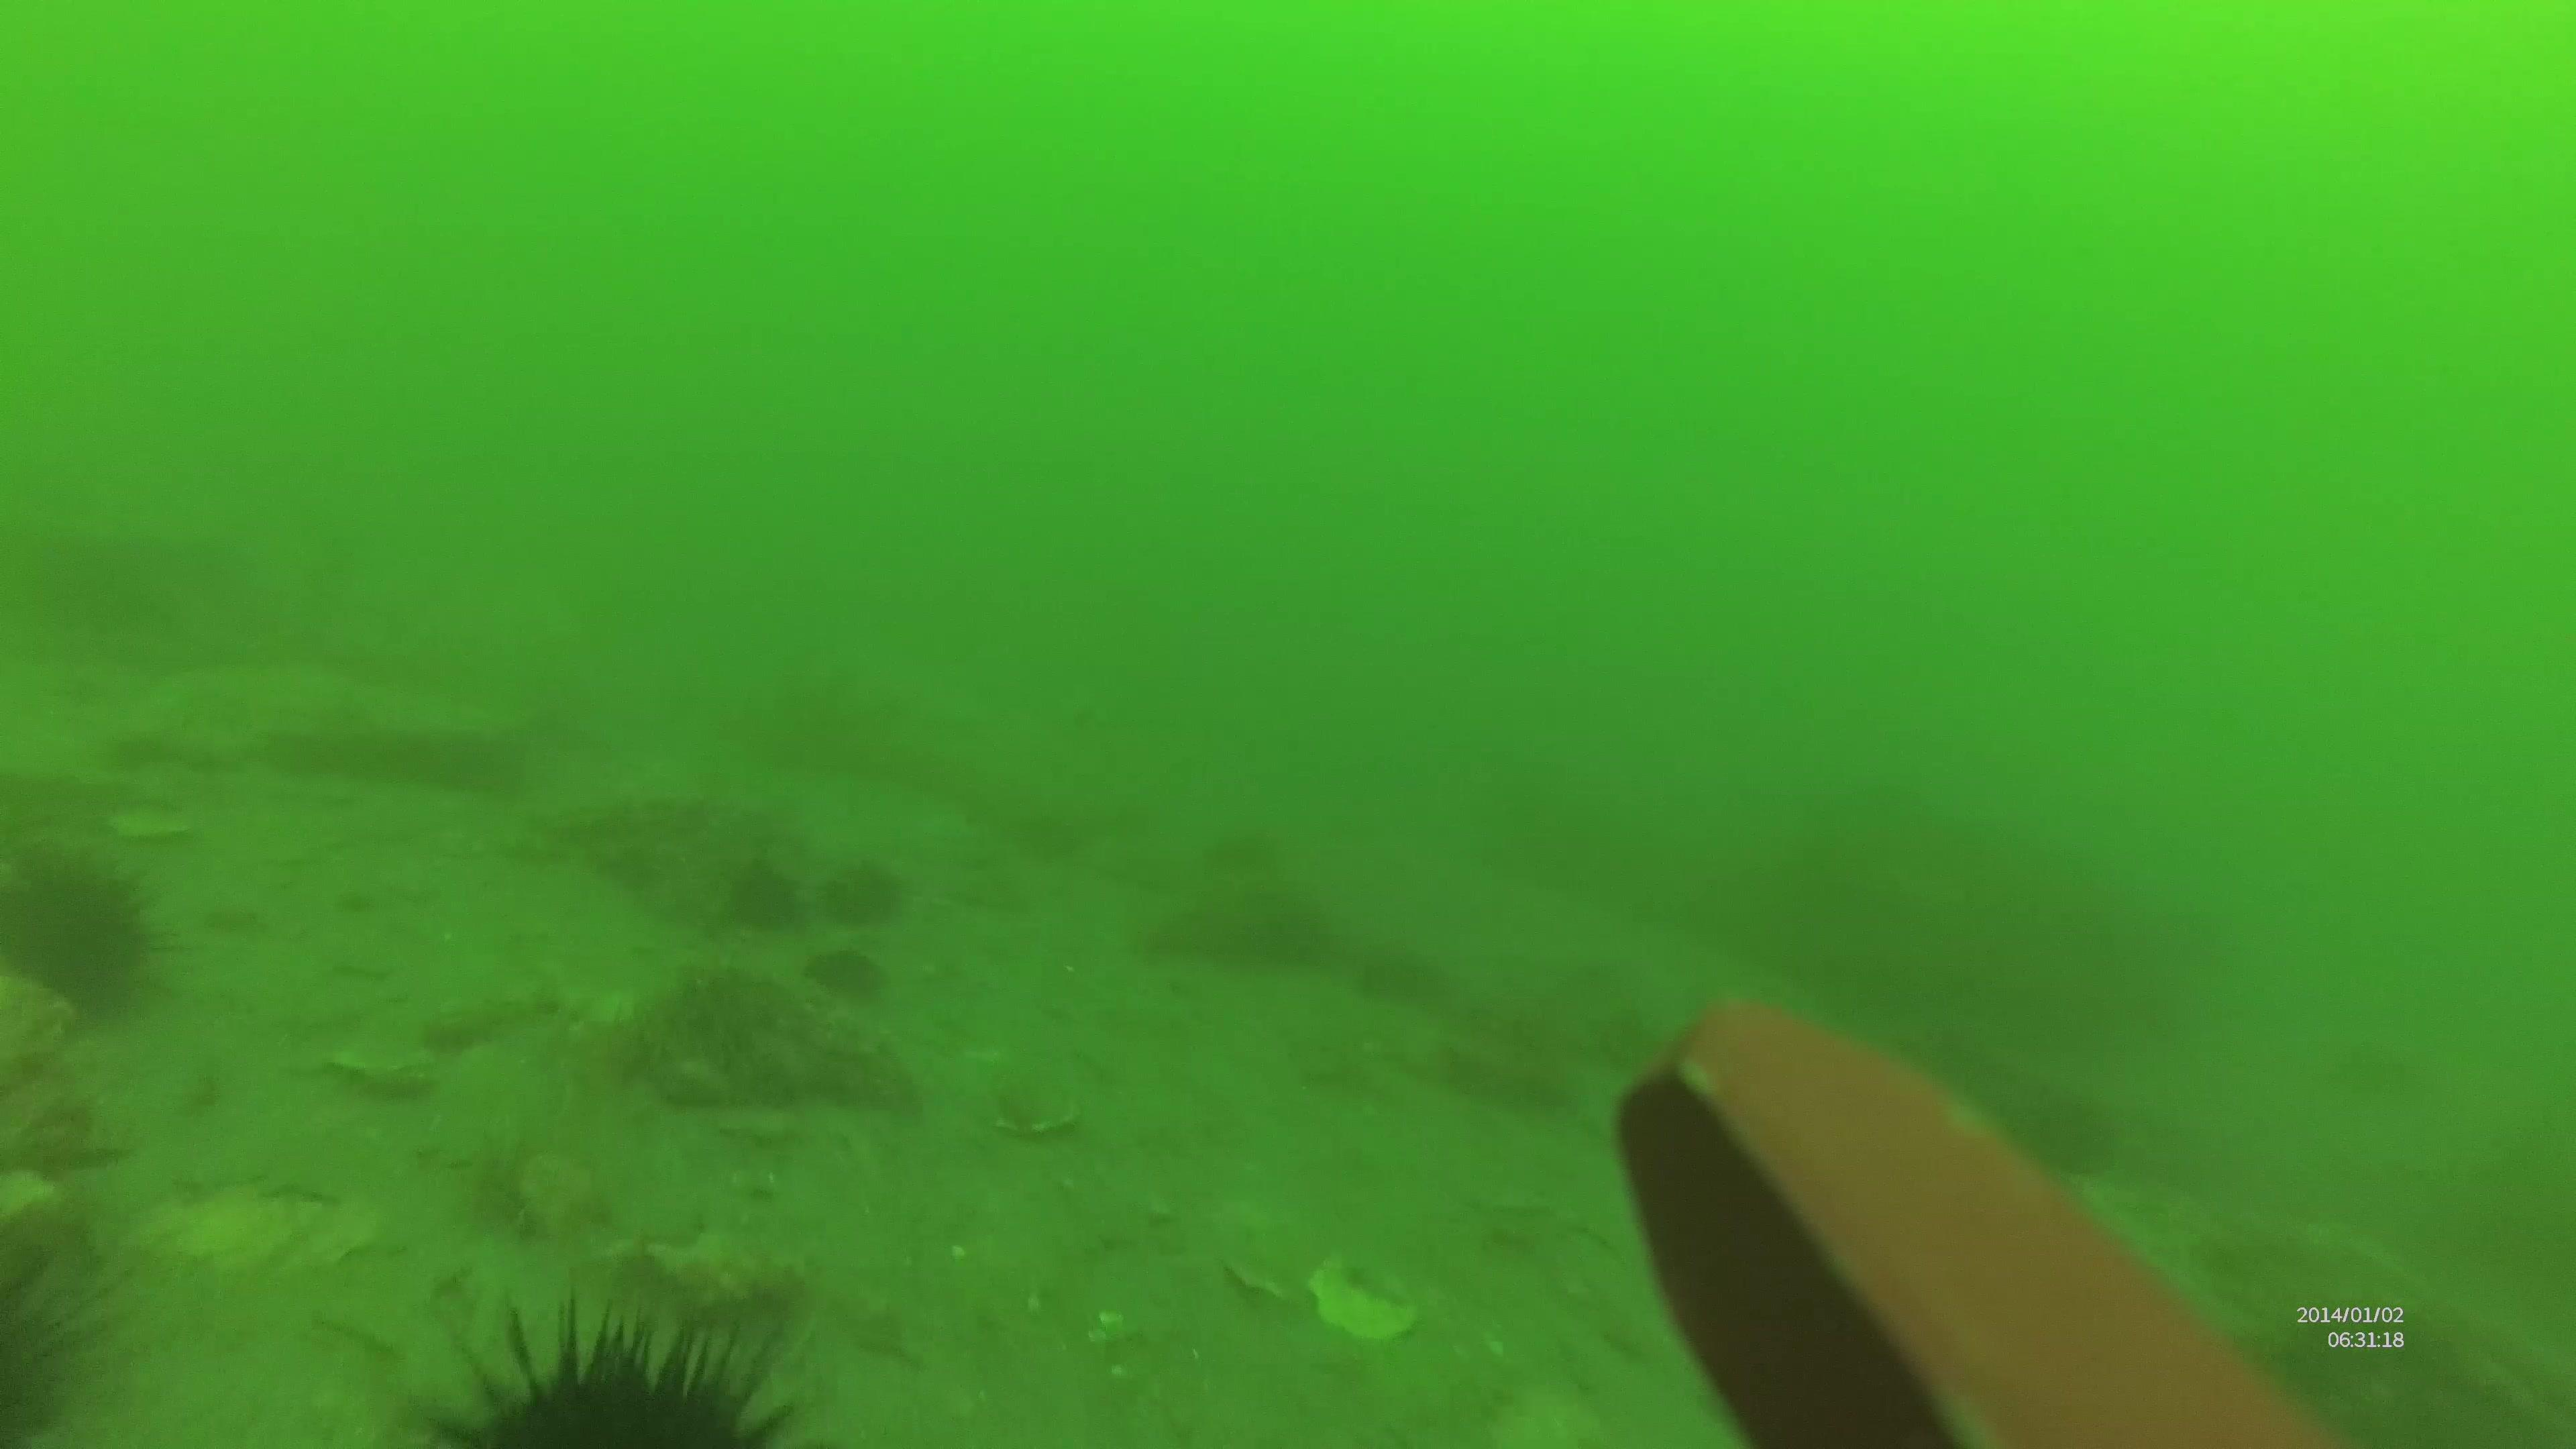echinus: (418, 1272, 826, 1449), (0, 1208, 136, 1449), (0, 846, 179, 1028), (729, 860, 798, 932), (807, 945, 890, 1003), (824, 863, 899, 925)
